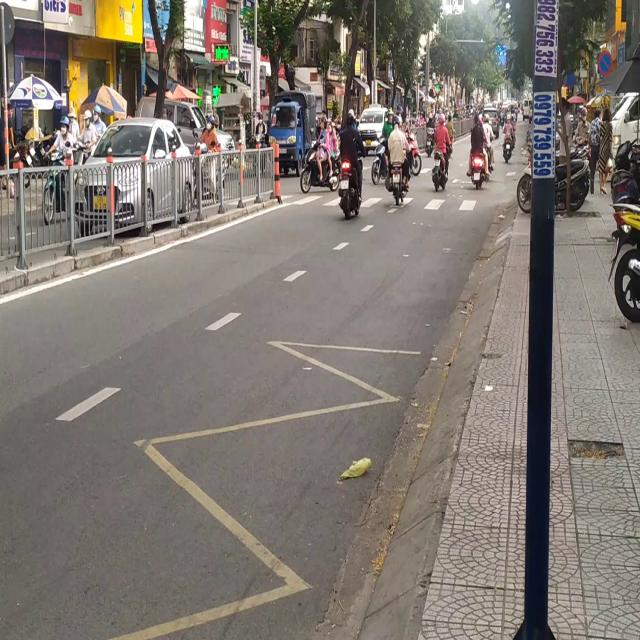bien_vang: (93, 195, 108, 212)
